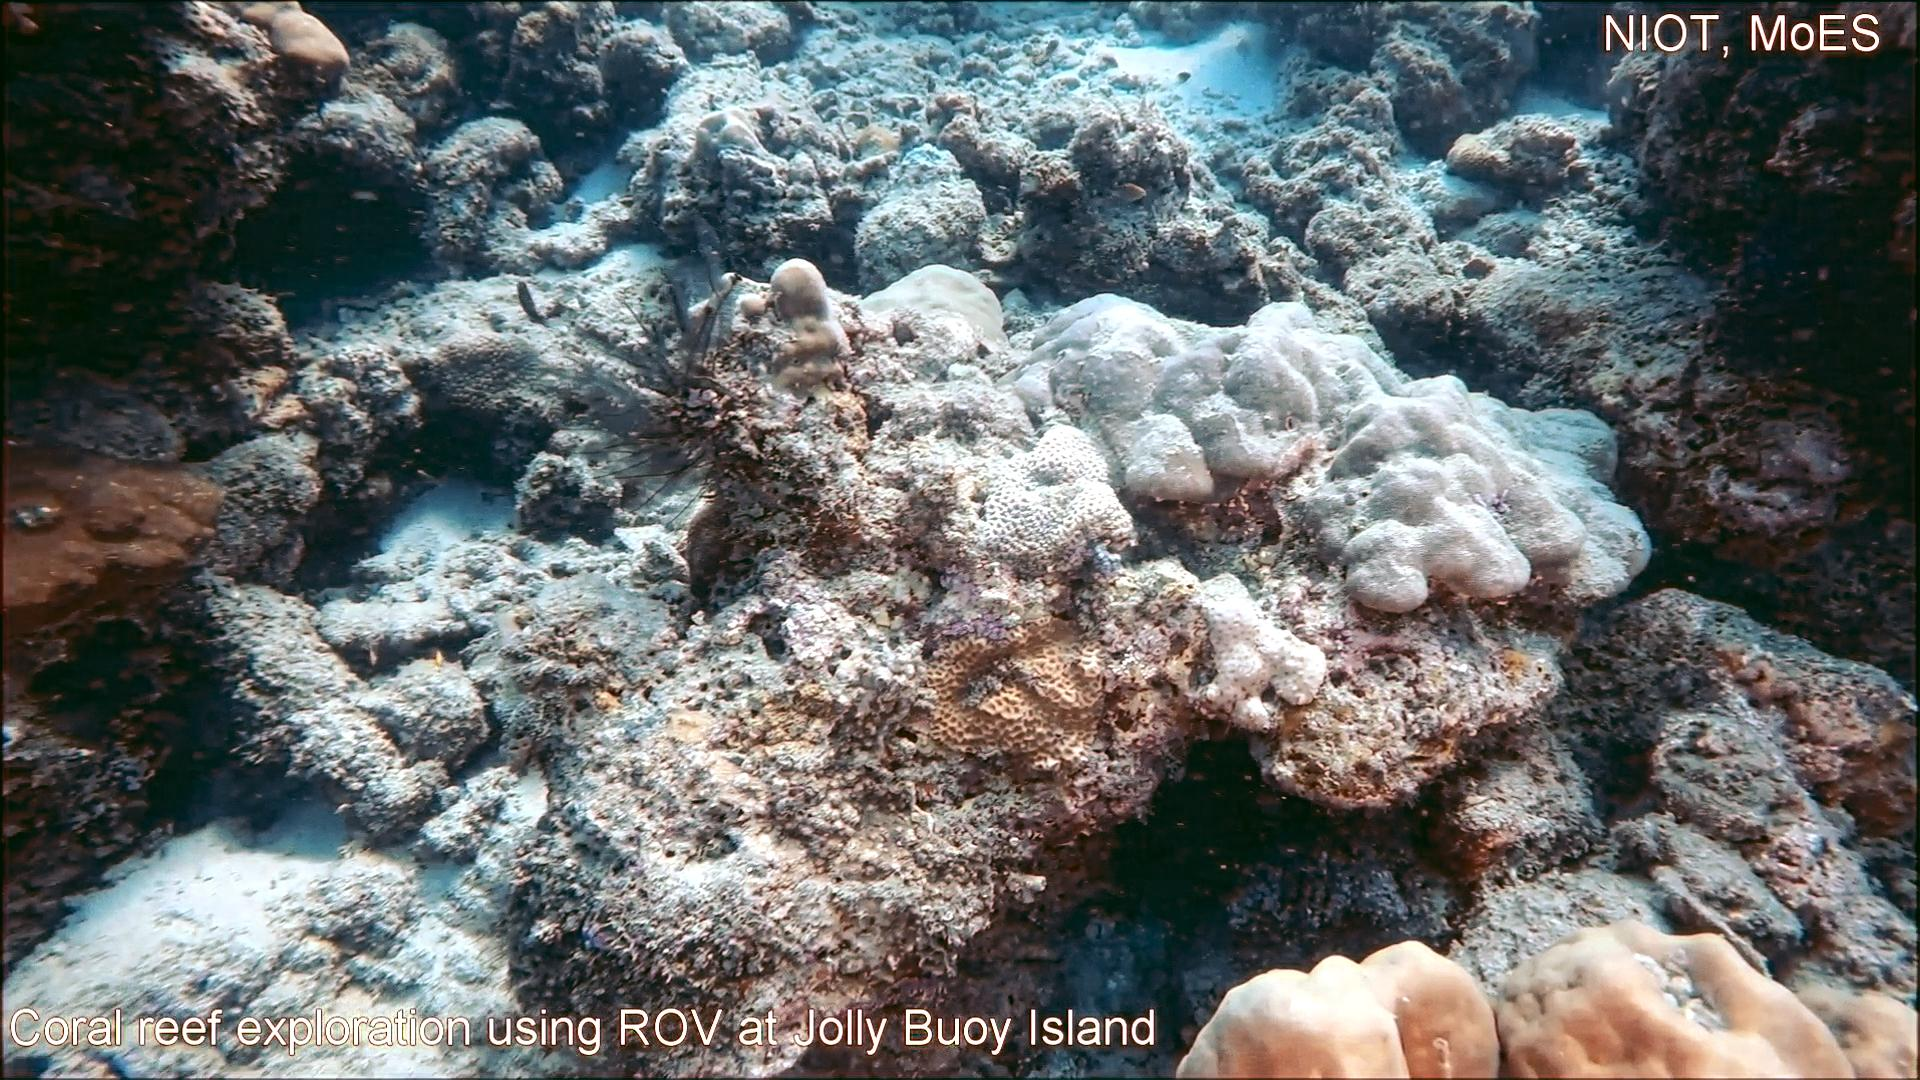Feather star-Crinoid star: (550, 208, 750, 535)
Goniastrea-Goniastrea pectinata: (977, 419, 1142, 582)
Porites-Porites pukoensis: (1220, 298, 1655, 616)
Turbinaria-Turbinaria stellulata: (406, 320, 558, 422)
